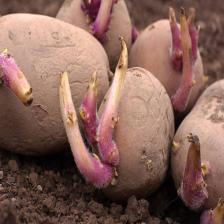Sprouted potato: (75, 58, 178, 219), (0, 10, 112, 121), (1, 46, 91, 160), (121, 5, 204, 114), (169, 72, 223, 224), (54, 0, 136, 76)
